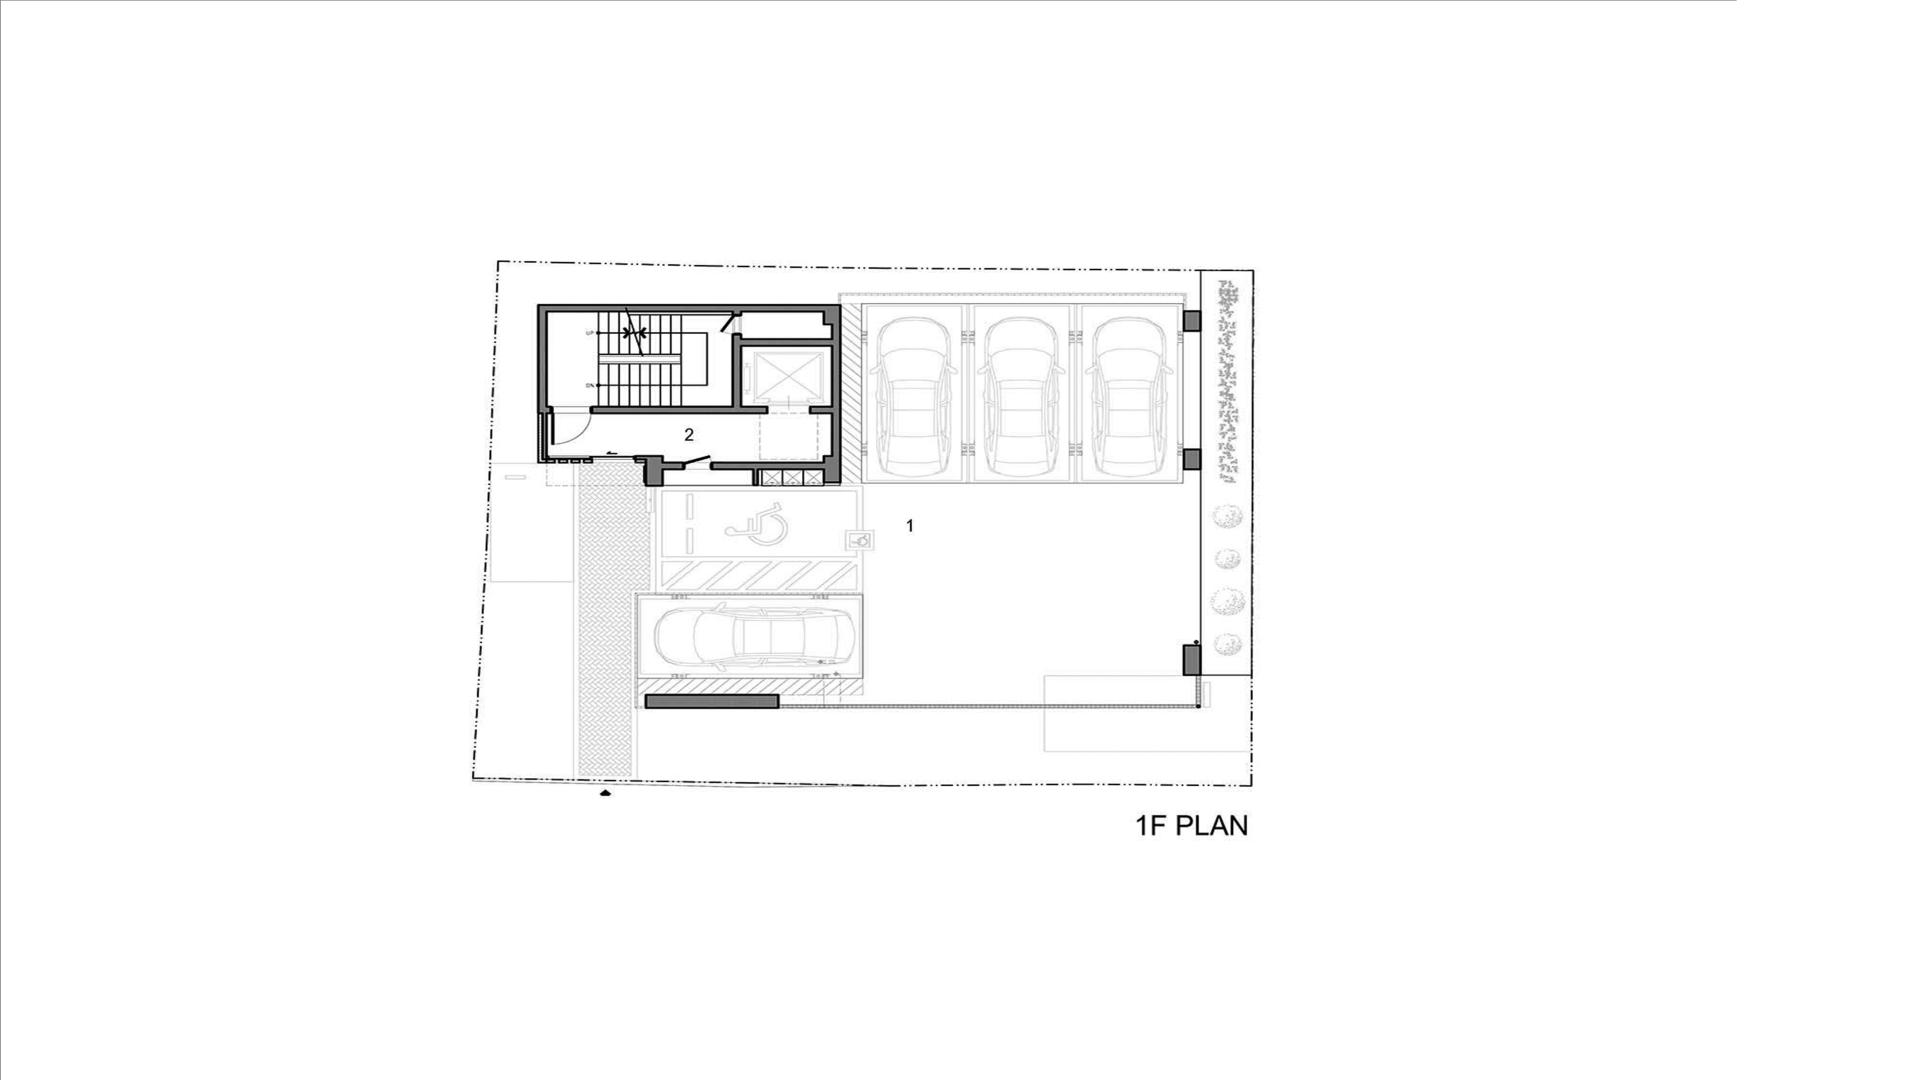door: (551, 406, 591, 444), (547, 455, 634, 463), (720, 315, 742, 335), (684, 455, 711, 469)
wall: (537, 305, 823, 313), (645, 694, 779, 708), (779, 704, 1196, 708), (591, 406, 769, 414), (831, 324, 841, 455), (711, 462, 823, 471), (537, 313, 547, 406), (634, 455, 665, 487), (742, 338, 831, 347), (732, 334, 742, 406), (1183, 645, 1201, 676), (823, 455, 841, 484), (1183, 310, 1201, 332), (1183, 448, 1201, 469), (823, 305, 841, 324), (542, 414, 547, 460), (663, 462, 684, 469), (810, 406, 831, 414), (1196, 676, 1201, 708), (752, 471, 760, 485), (537, 406, 551, 414), (732, 313, 741, 315)
